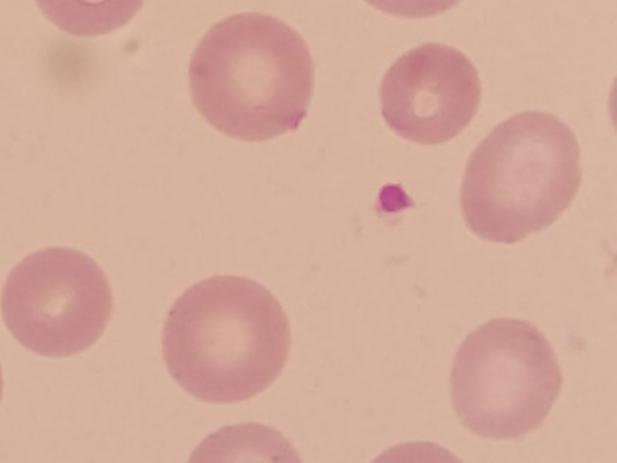Uninfected: (159, 272, 292, 404), (185, 10, 316, 139), (456, 108, 582, 241), (445, 317, 560, 440), (0, 244, 113, 358), (379, 43, 481, 148)
